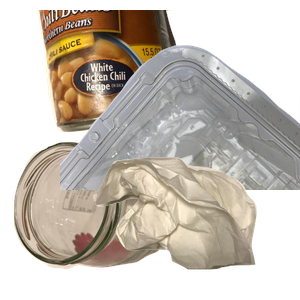glass: (11, 139, 179, 300)
metal: (34, 10, 213, 135)
plastic: (60, 43, 300, 223)
trash: (90, 155, 300, 300)
